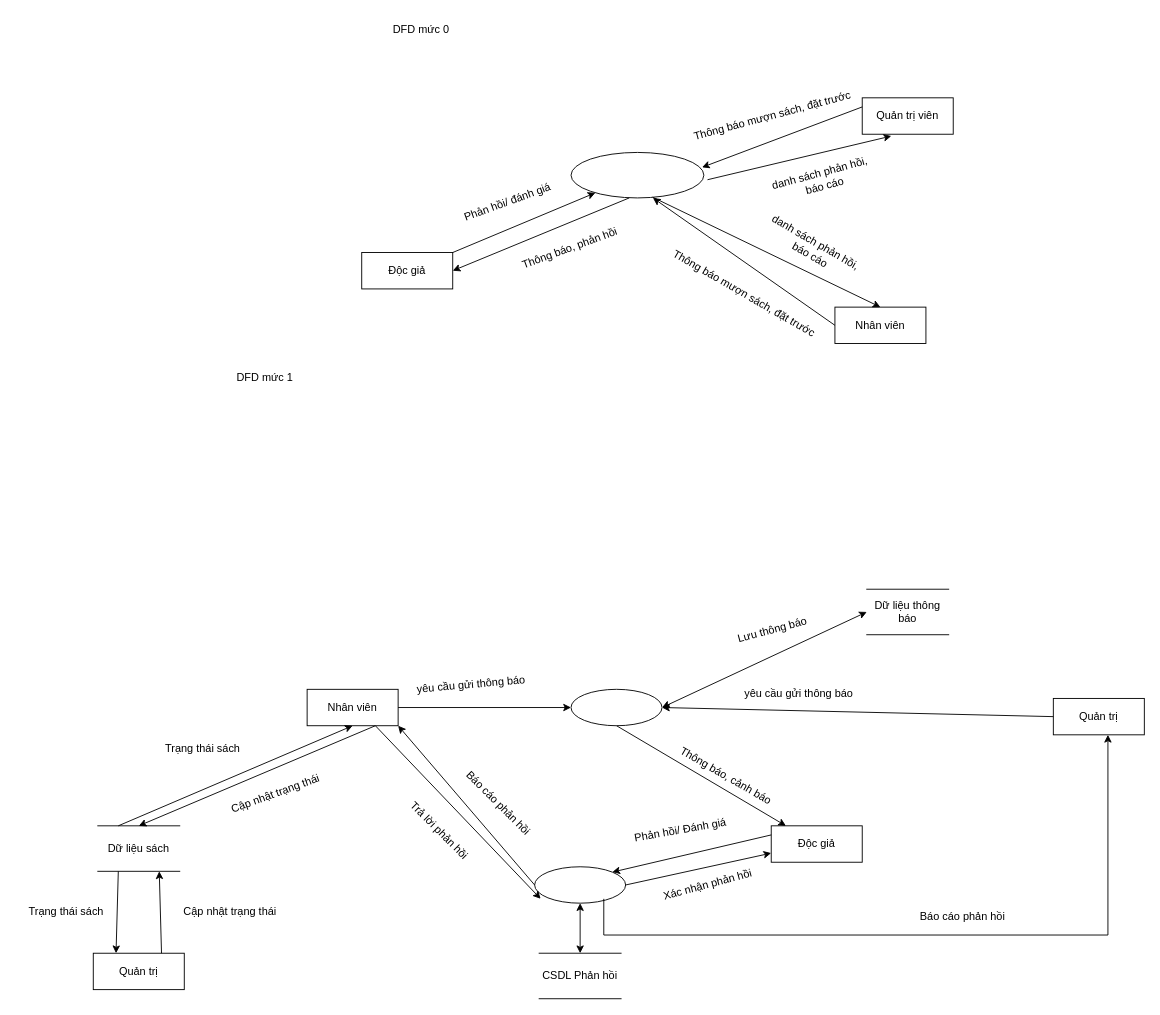
This 1160x1015 diagram has some shape labels left out. Each missing label, with the box of its shape:
Quản lý phản hồi, đánh giá: (534, 866, 626, 903)
Quản lý thông báo: (570, 688, 662, 726)
Quản lý thông báo và phản hồi: (570, 152, 704, 198)
